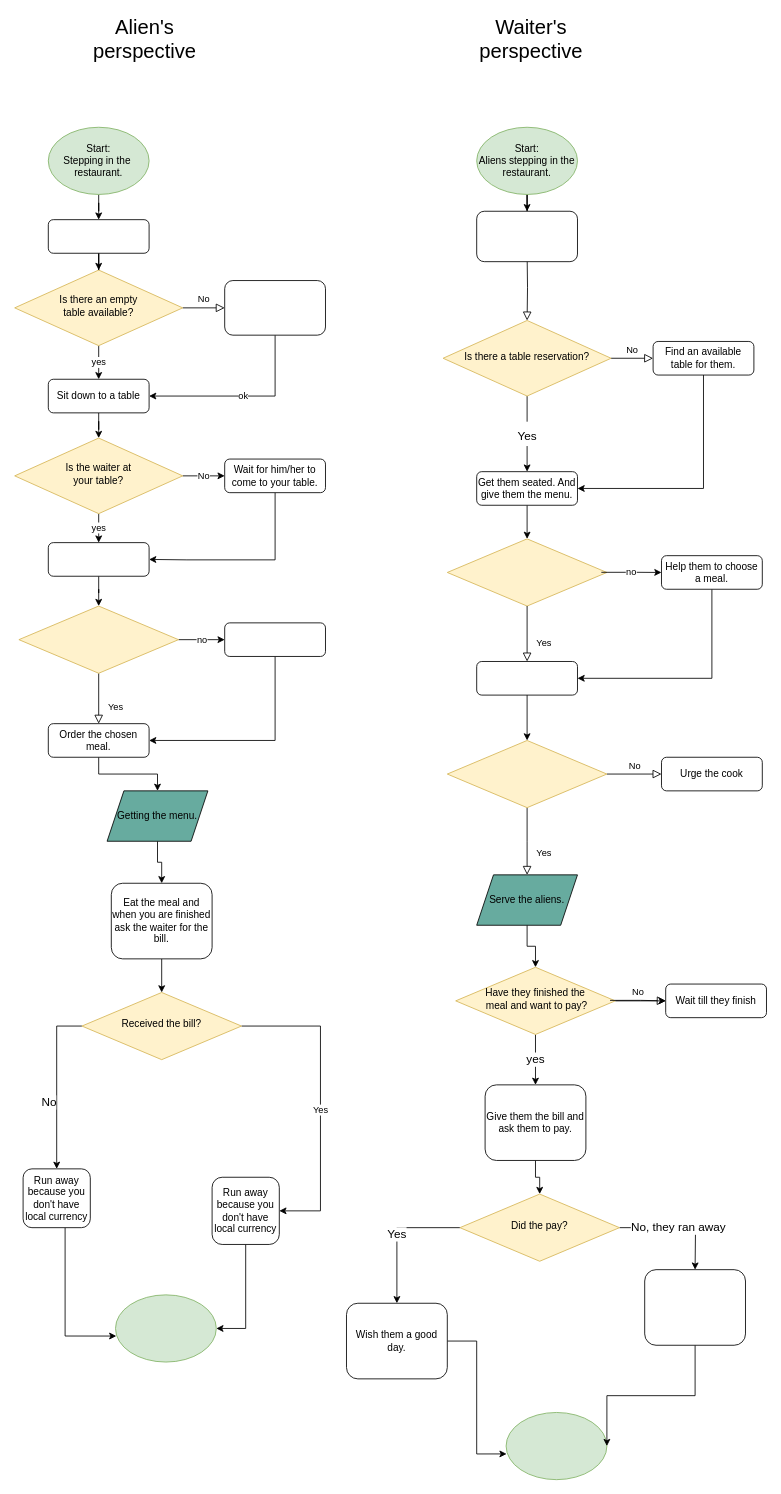
Image size: 781x1494. Some labels were removed from this diagram. Here are the shapes that lost their labels. From the top down, the centre of each, then its label:
point (98, 236): Greet the waiters
point (527, 236): Greet them and ask them if they've reserved a table.
point (275, 307): Ask a waiter/waitress to help you get seated.
point (98, 559): Ask for the menu.
point (526, 572): Do they know what they want to order?
point (98, 639): Do you know what to order from the menu?
point (275, 639): Ask the waiter to help you choose.
point (527, 678): Order the chosen meal from the cook.
point (526, 774): Is the meal ready for the aliens?
point (695, 1307): Call the "Men In Black"
point (165, 1328): End: Stepping out of the restaurant.
point (556, 1446): End: They leave the restaurant
